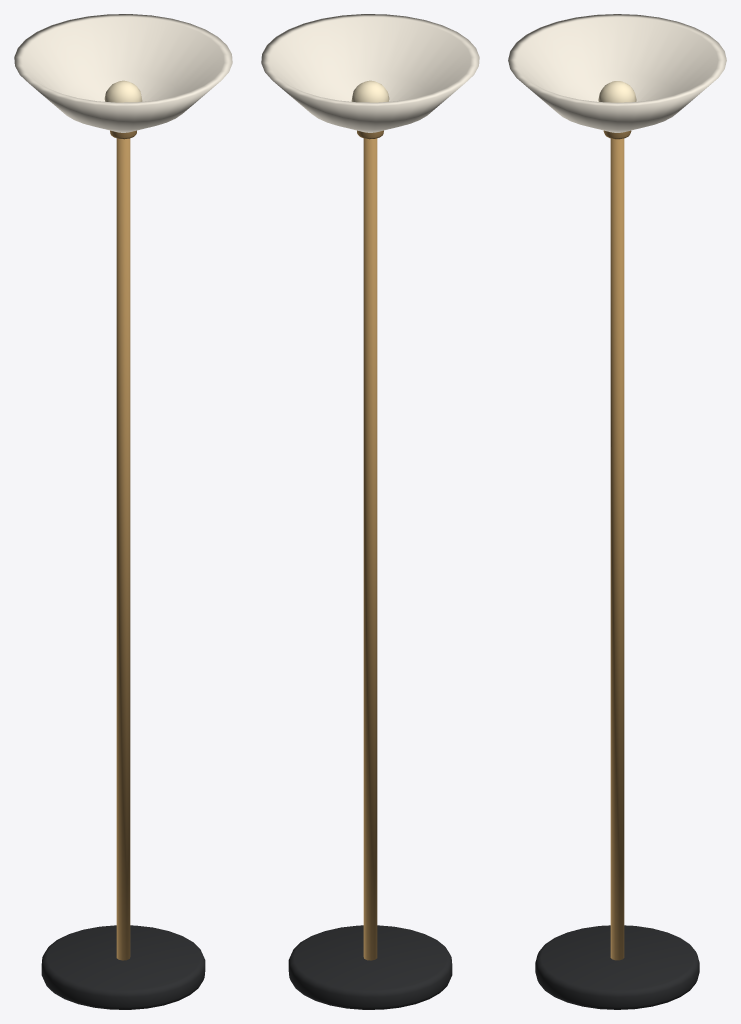
Rendered from lampTorchiere.glb.
3 renders of one model, left to right at view 1: azimuth 30°, elevation 25°; view 2: azimuth 150°, elevation 25°; view 3: azimuth 270°, elevation 25°, orthographic.
Visible parts, largest first — view 1: lampTorchiere; view 2: lampTorchiere; view 3: lampTorchiere.
Boxes of the visible parts, x1,y1,x2,y2 form: lampTorchiere: (14, 14, 232, 1009); lampTorchiere: (261, 14, 479, 1009); lampTorchiere: (508, 14, 726, 1009).
Size of the model in its own units: 0.4 by 1.85 by 0.4.
